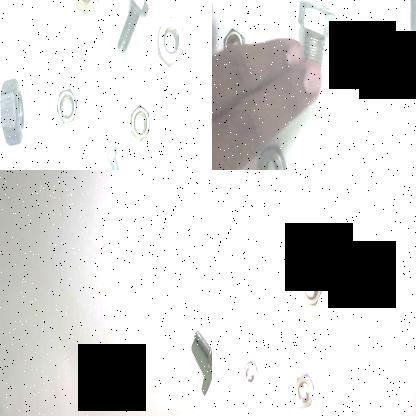Bolts: (294, 0, 338, 79), (111, 0, 151, 54), (192, 324, 212, 368), (71, 0, 101, 28), (103, 144, 133, 170), (401, 0, 416, 48)
NUTS: (152, 13, 190, 70), (0, 70, 26, 150), (52, 78, 82, 130), (298, 262, 324, 310), (128, 98, 152, 146), (292, 370, 316, 411), (257, 142, 285, 170), (243, 360, 259, 390), (206, 97, 212, 143)
